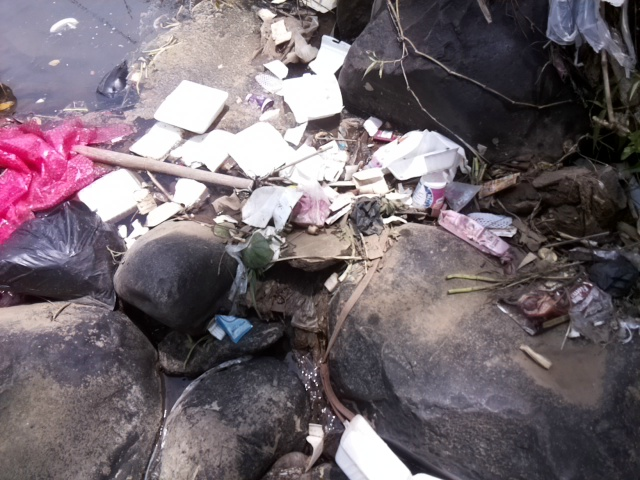Sampah_Plastik: (1, 112, 132, 235), (1, 199, 129, 303), (439, 179, 517, 264), (522, 287, 635, 341), (204, 312, 252, 346)
Sampah_Styrofoam: (135, 128, 348, 189), (335, 406, 419, 480), (373, 132, 470, 190), (152, 78, 232, 135), (75, 167, 153, 221), (273, 73, 349, 124), (240, 185, 298, 235), (312, 33, 349, 76)
